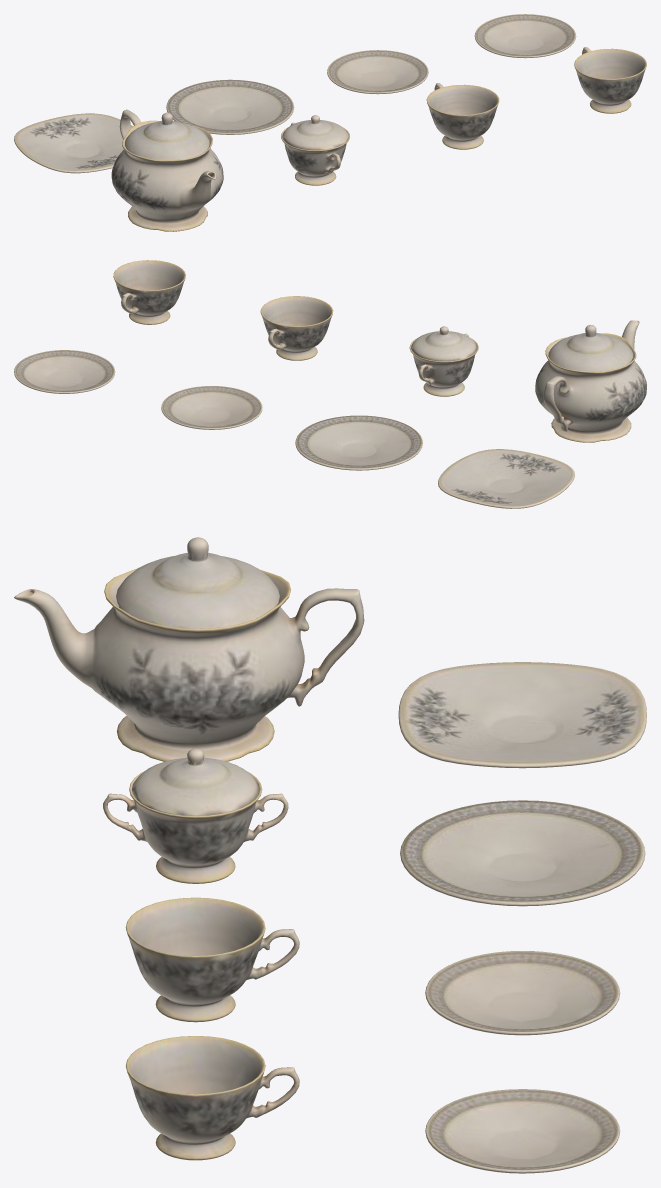
File: tea_set.glb
3 renders of one model, top to bottom at view 1: azimuth 30°, elevation 25°; view 2: azimuth 150°, elevation 25°; view 3: azimuth 270°, elevation 25°, orthographic. The views are drawn at different scales.
Parts seen in each view (by area): view 1: tea_set_01_plate_large_square_01; view 2: tea_set_01_plate_large_square_01; view 3: tea_set_01_plate_large_square_01.
Part boxes in pixels (x1,y1,x2,y2): tea_set_01_plate_large_square_01: [14, 14, 646, 231]; tea_set_01_plate_large_square_01: [14, 260, 646, 508]; tea_set_01_plate_large_square_01: [14, 537, 646, 1173].
Size of the model in its own units: 0.9185 by 0.165 by 0.4839.
Materials: 1 (1 with a texture image).
